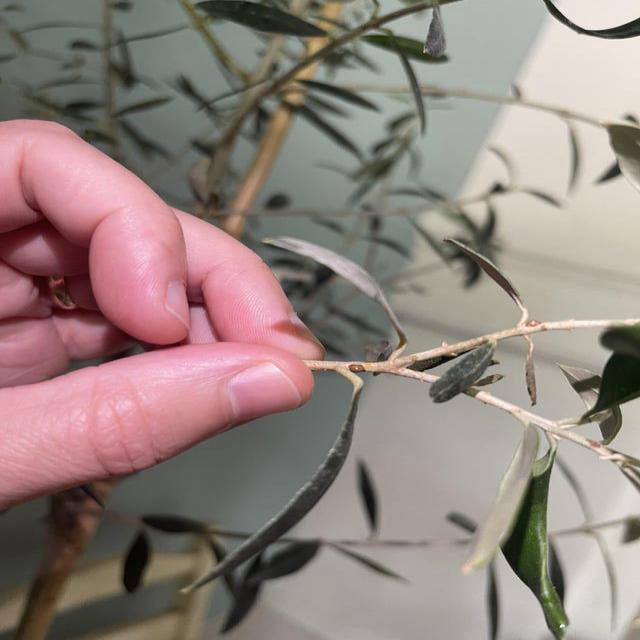BlackScale: (524, 318, 542, 327), (347, 364, 366, 372)
